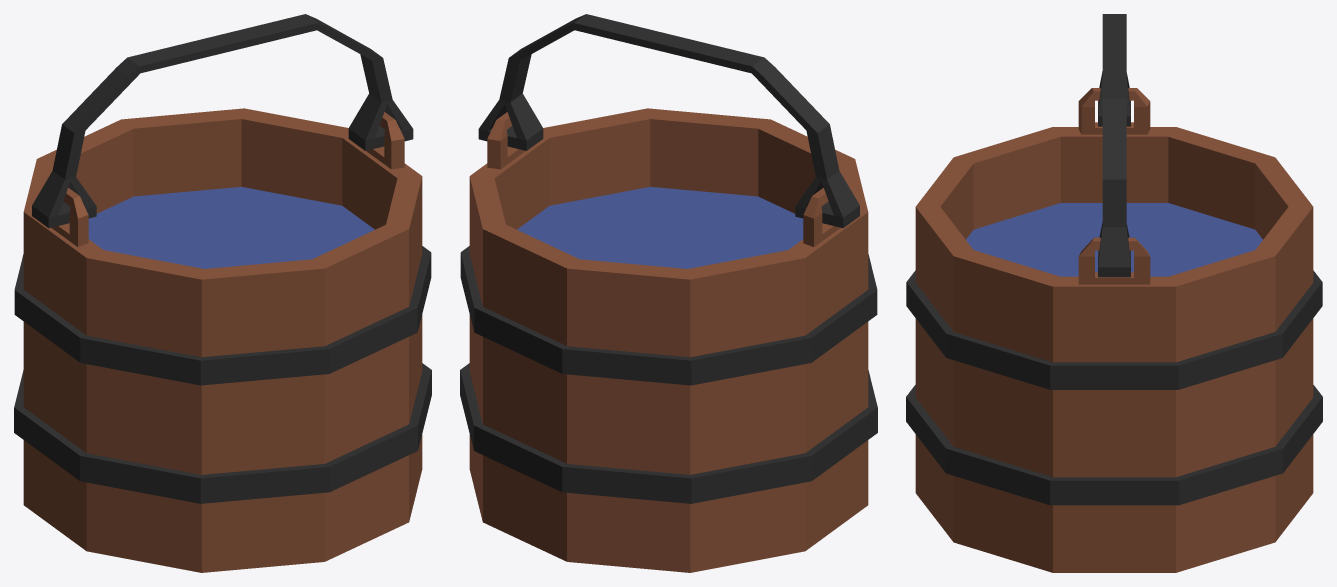
The model's file is bucket_water.fbx.
3 views of the same model, side by side, from view 1: azimuth 30°, elevation 25°; view 2: azimuth 150°, elevation 25°; view 3: azimuth 270°, elevation 25° (orthographic). The views are drawn at different scales.
Parts seen in each view (by area): view 1: bucket, water, handle; view 2: bucket, water, handle; view 3: bucket, water, handle.
Boxes of the visible parts, box(x1,y1,x2,y2) form: bucket: box(14, 108, 431, 572); water: box(88, 187, 374, 268); handle: box(32, 14, 413, 228); bucket: box(460, 108, 877, 572); water: box(517, 187, 803, 268); handle: box(478, 14, 859, 227); bucket: box(906, 88, 1322, 572); water: box(966, 203, 1262, 276); handle: box(1098, 14, 1130, 277).
Size of the model in its own units: 42.05 by 49.28 by 42.65.
